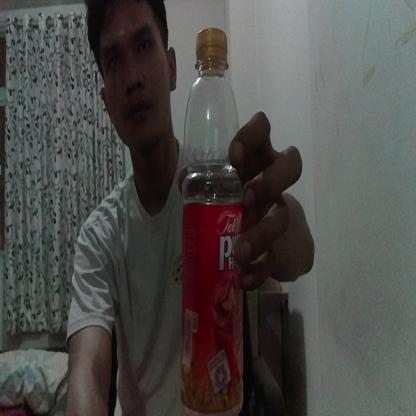plastic_bottles: (178, 27, 245, 416)
